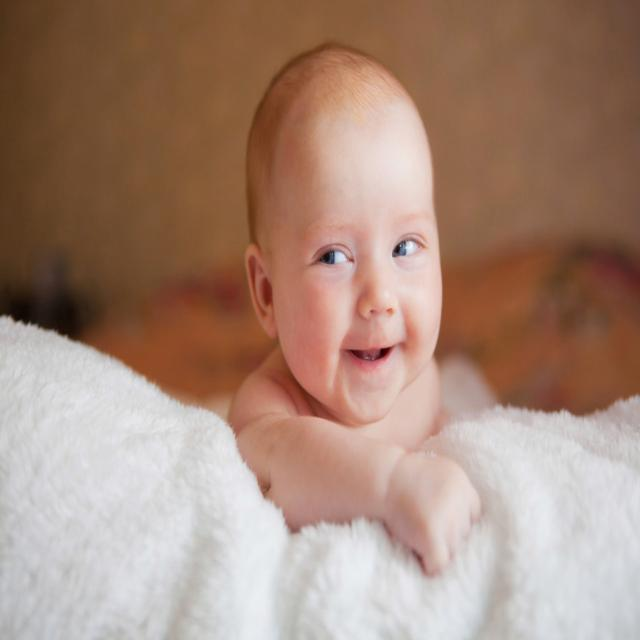child: (224, 43, 504, 583)
